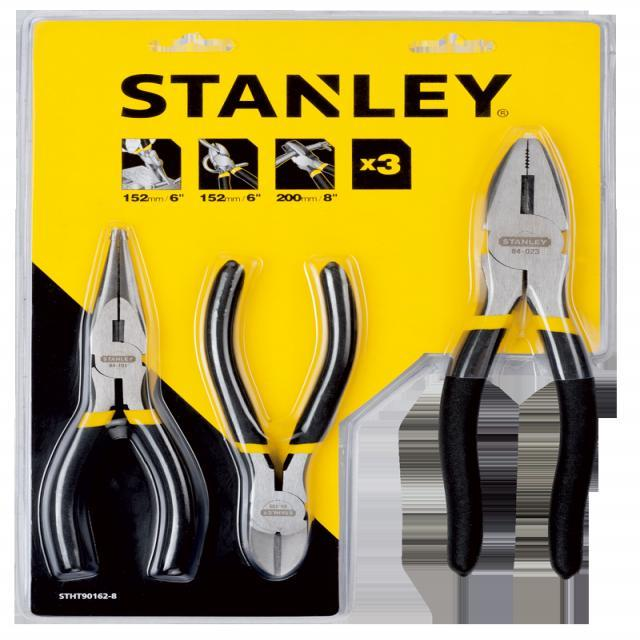pliers: (428, 131, 610, 584), (28, 222, 215, 587), (195, 256, 369, 596)
